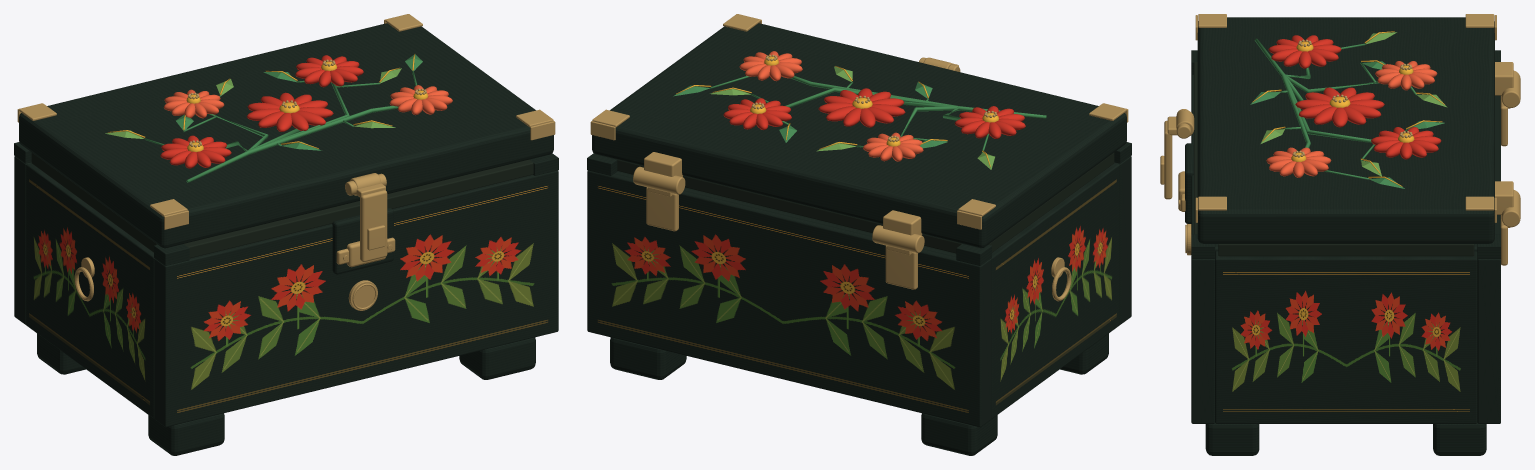
The model's file is ukraine.glb.
3 renders of one model, left to right at view 1: azimuth 30°, elevation 25°; view 2: azimuth 150°, elevation 25°; view 3: azimuth 270°, elevation 25°, orthographic. The views are drawn at different scales.
Visible parts, largest first — view 1: Painted body / front, Lid / polished slab, Painted body / side, Seam / long, Lacquer foot, Lacquer foot.002, Painted body / rear, Latch / lifting hasp, Lacquer / clasp seat, Seam / side, Lacquer foot.001, Floral stem / 4 (+2 smaller); view 2: Painted body / rear, Lid / polished slab, Painted body / side, Seam / long.001, Lacquer foot.001, Lacquer foot.003, Painted body / front, Seam / side, Hinge / fixed mount.001, Hinge / fixed mount, Lacquer foot, Hinge / fixed barrel.001 (+4 smaller); view 3: Lid / polished slab, Painted body / side.001, Painted body / rear, Painted body / front, Seam / side.001, Lacquer foot.002, Lacquer foot.003, Seam / long, Latch / lifting hasp, Lacquer / clasp seat, Hinge / moving leaf, Hinge / moving leaf.001 (+9 smaller).
Boxes of the visible parts, <box> form: Painted body / front: <box>154,170,558,427</box>; Lid / polished slab: <box>19,23,553,248</box>; Painted body / side: <box>26,163,154,418</box>; Seam / long: <box>184,159,533,258</box>; Lacquer foot: <box>148,413,224,455</box>; Lacquer foot.002: <box>459,337,535,379</box>; Painted body / rear: <box>14,156,31,324</box>; Latch / lifting hasp: <box>360,190,387,261</box>; Lacquer / clasp seat: <box>332,208,393,274</box>; Seam / side: <box>31,153,157,252</box>; Lacquer foot.001: <box>37,333,85,374</box>; Floral stem / 4: <box>203,105,398,172</box>; Painted body / rear: <box>587,170,991,427</box>; Lid / polished slab: <box>592,23,1126,248</box>; Painted body / side: <box>991,163,1119,418</box>; Seam / long.001: <box>617,160,961,253</box>; Lacquer foot.001: <box>921,413,997,455</box>; Lacquer foot.003: <box>610,337,686,379</box>; Painted body / front: <box>1114,156,1131,324</box>; Seam / side: <box>988,153,1114,252</box>; Hinge / fixed mount.001: <box>646,187,678,231</box>; Hinge / fixed mount: <box>885,245,917,289</box>; Lacquer foot: <box>1060,333,1108,374</box>; Hinge / fixed barrel.001: <box>633,166,685,194</box>; Lid / polished slab: <box>1197,17,1494,243</box>; Painted body / side.001: <box>1215,251,1477,423</box>; Painted body / rear: <box>1477,95,1500,423</box>; Painted body / front: <box>1191,74,1214,423</box>; Seam / side.001: <box>1218,244,1474,256</box>; Lacquer foot.002: <box>1205,423,1259,455</box>; Lacquer foot.003: <box>1433,423,1486,455</box>; Seam / long: <box>1194,62,1197,234</box>; Latch / lifting hasp: <box>1164,120,1172,199</box>; Lacquer / clasp seat: <box>1185,143,1193,223</box>; Hinge / moving leaf: <box>1495,62,1513,95</box>; Hinge / moving leaf.001: <box>1495,181,1513,214</box>.
Bounding box in the file's own units: 3.79 × 2.38 × 2.88.
Materials: 9 (2 with a texture image).
